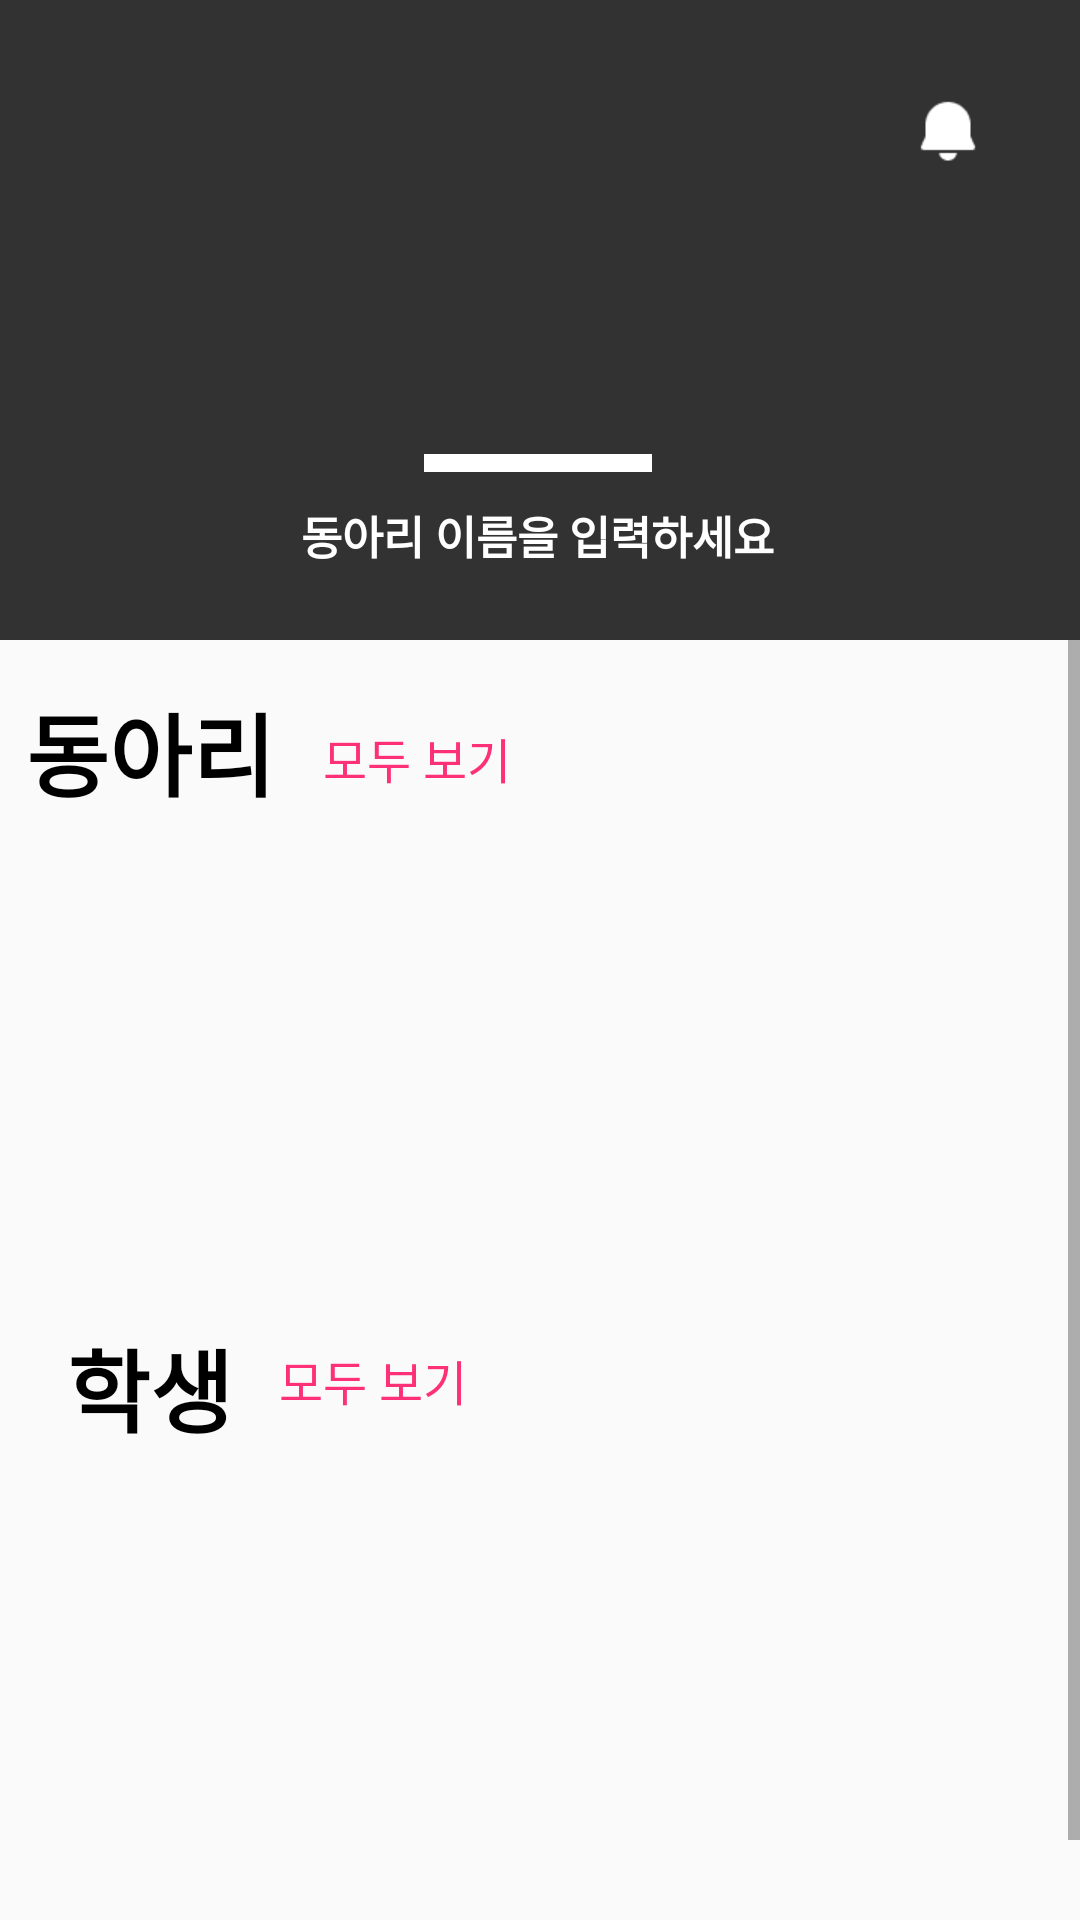

Named icons in this screenshot (1080 x 1920) and their centers, (x=x, y=y):
alarm: (x=948, y=131)
